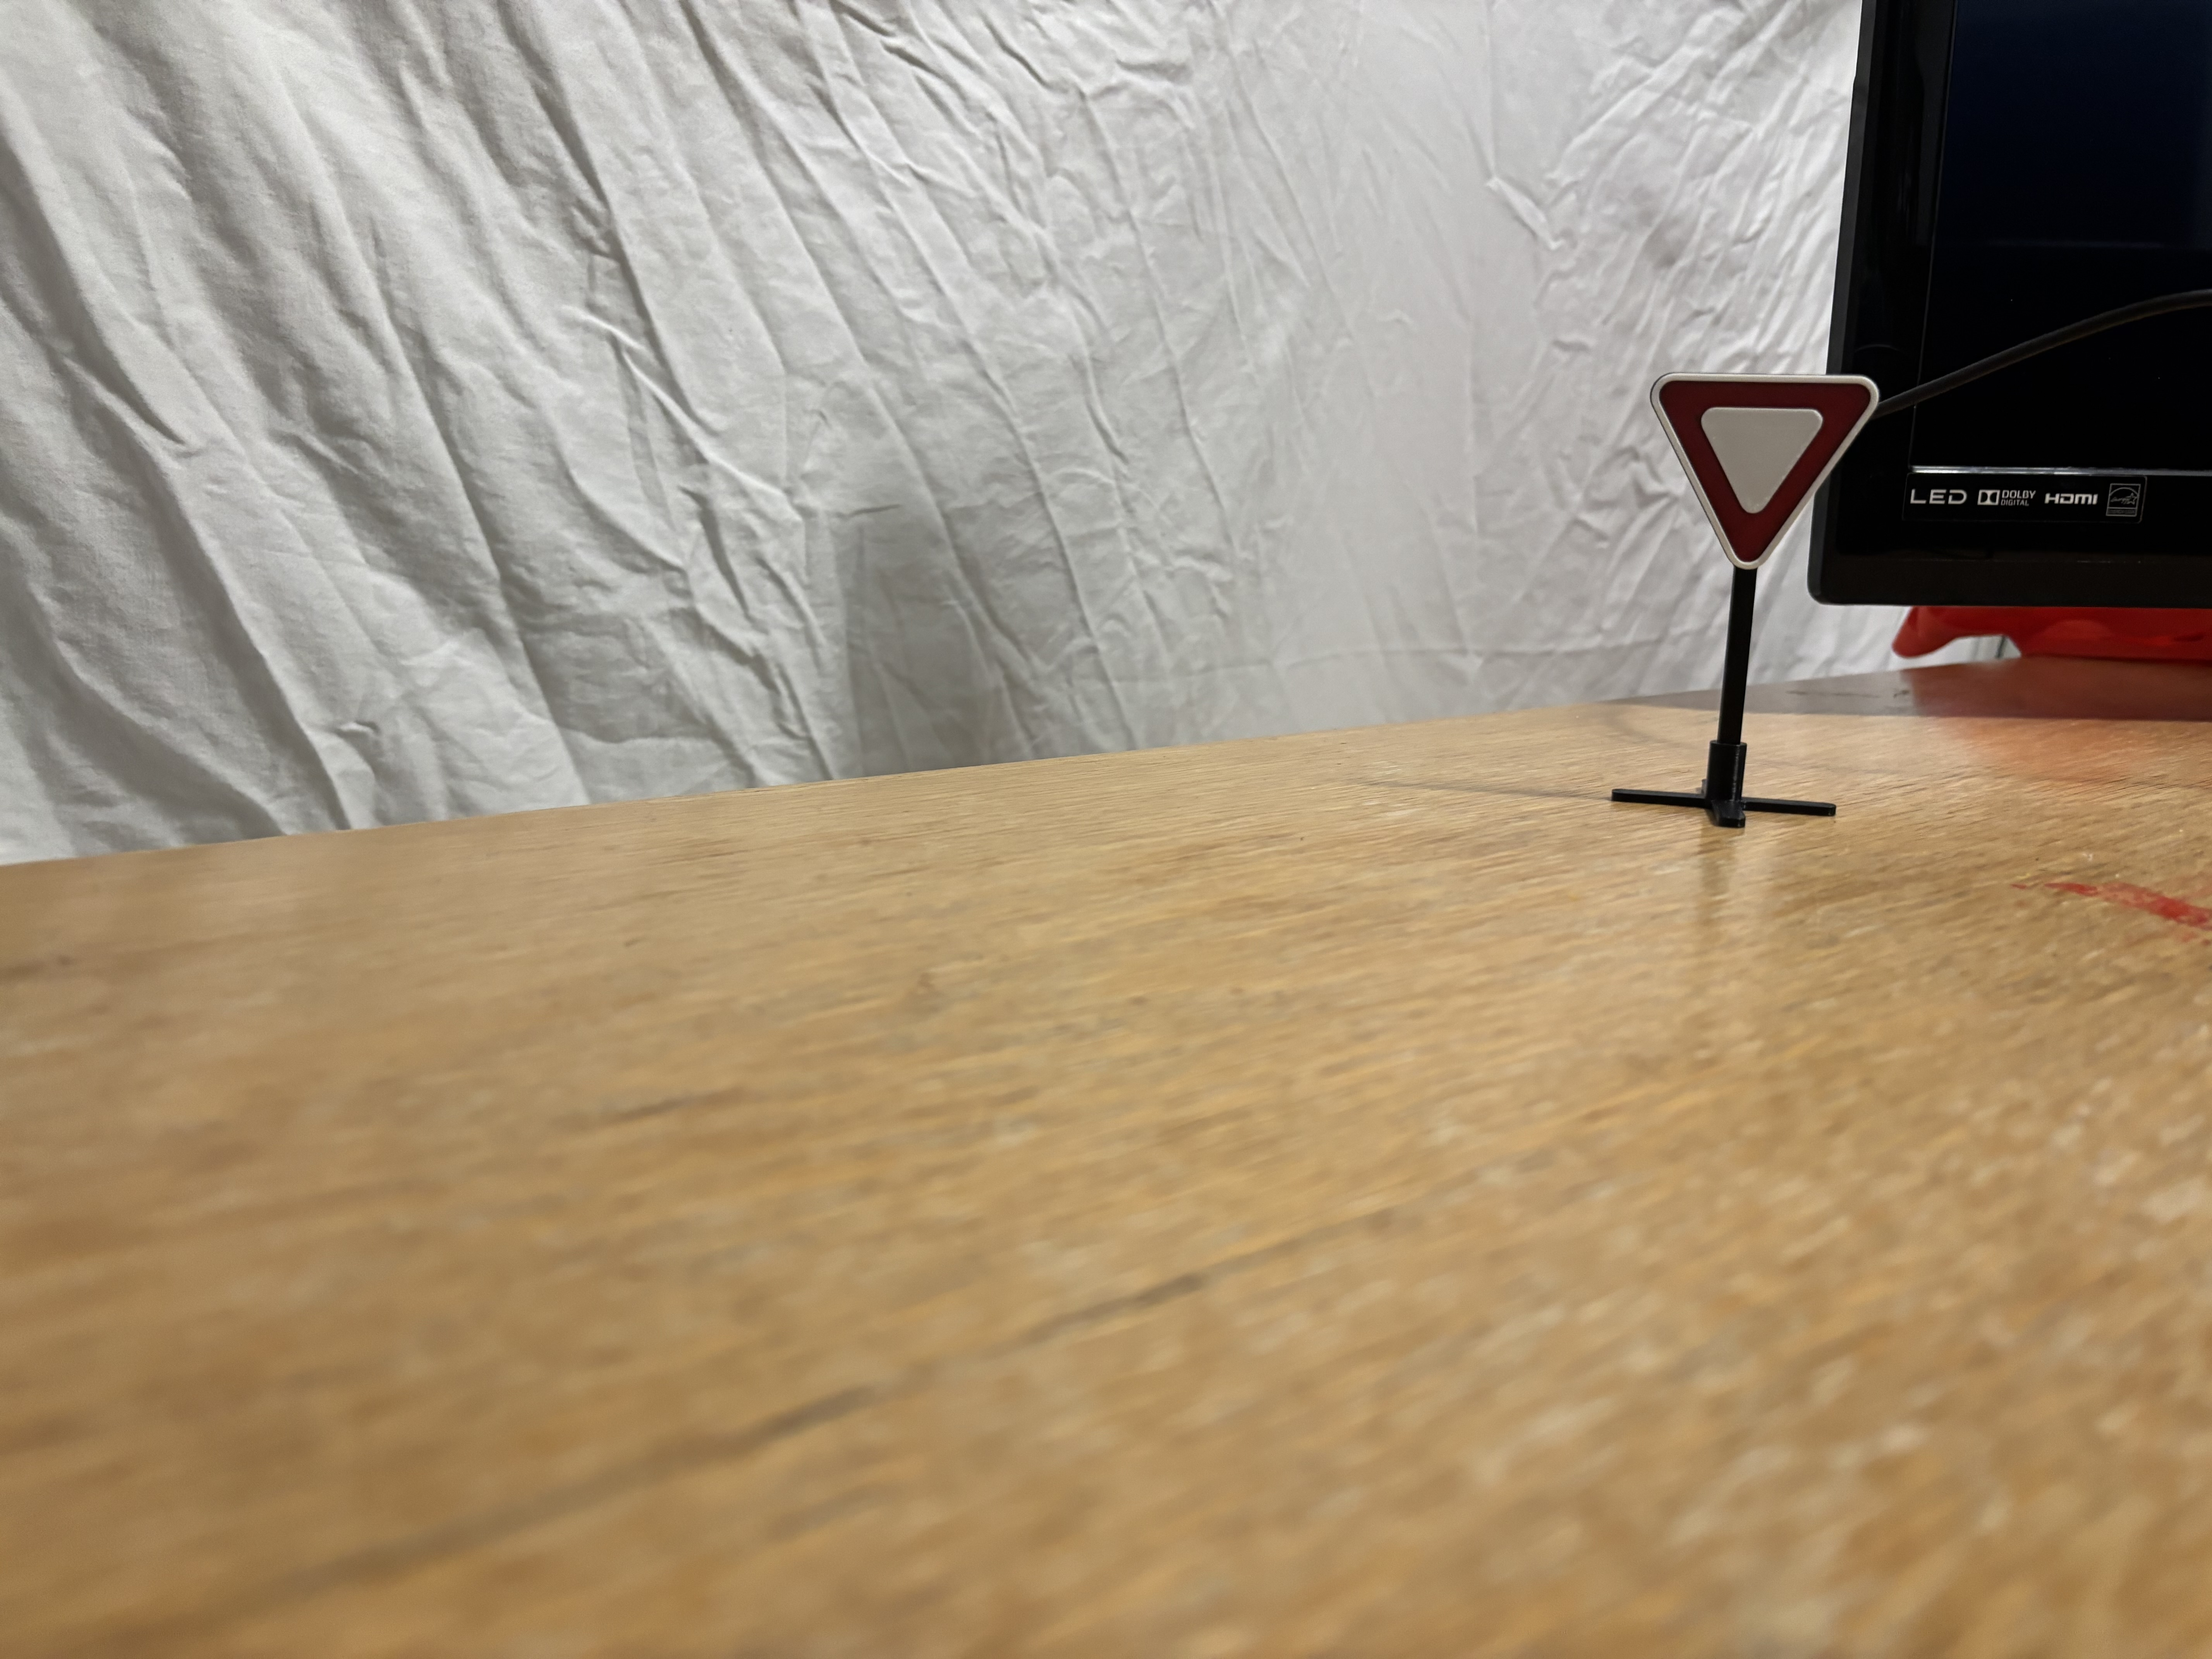sign_yield: (1634, 361, 1886, 570)
